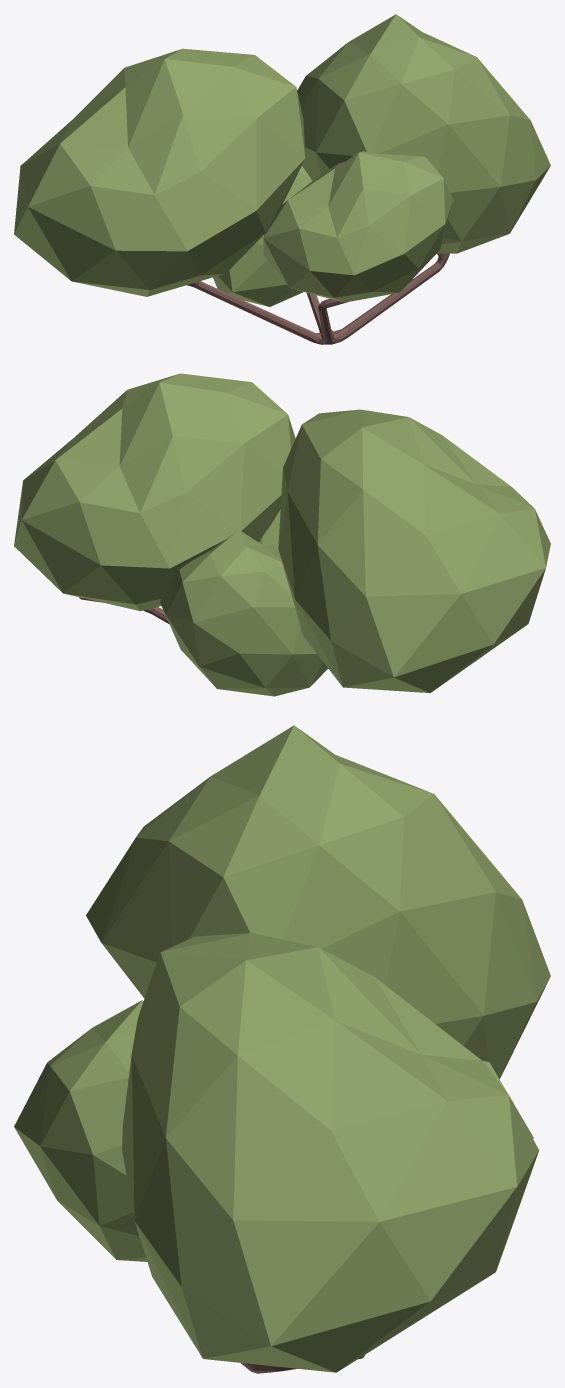
File: Bush(3).fbx
3 renders of one model, top to bottom at view 1: azimuth 30°, elevation 25°; view 2: azimuth 150°, elevation 25°; view 3: azimuth 270°, elevation 25°, orthographic. The views are drawn at different scales.
Visible parts, largest first — view 1: Icosphere.010; view 2: Icosphere.010; view 3: Icosphere.010.
Boxes of the visible parts, <box> form: Icosphere.010: <box>14,14,550,344</box>; Icosphere.010: <box>14,373,550,696</box>; Icosphere.010: <box>14,725,550,1373</box>.
Size of the model in its own units: 222 by 127 by 122.
Materials: 1 (1 with a texture image).
